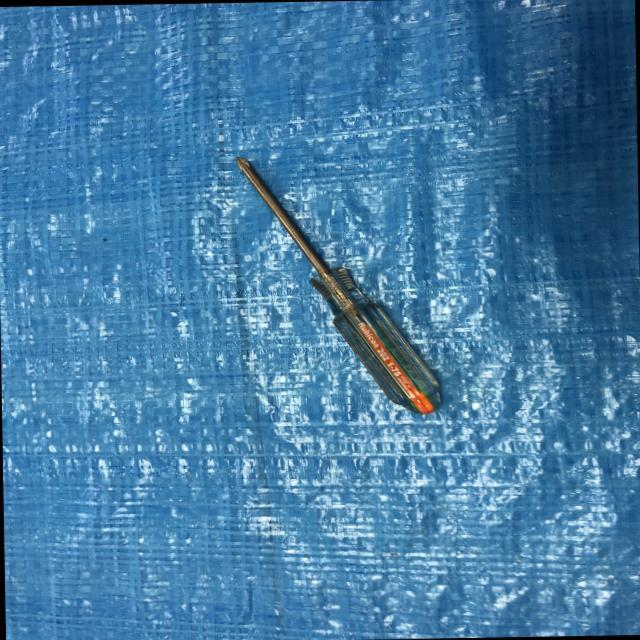screwdriver: (232, 143, 441, 428)
